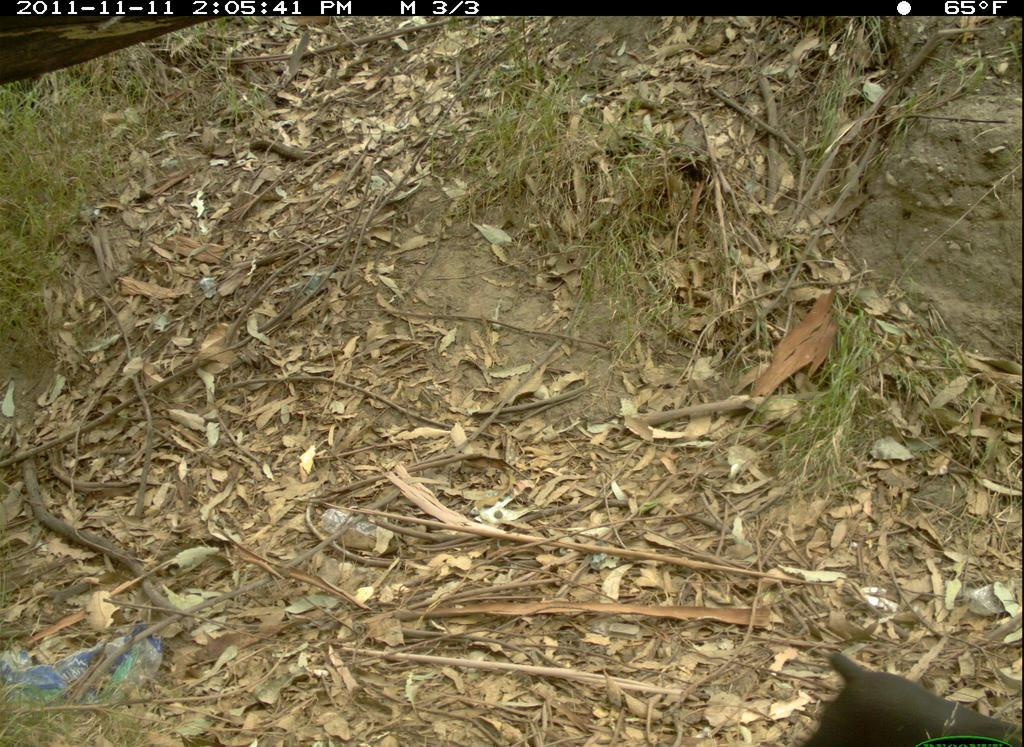dog: (774, 639, 1022, 747)
